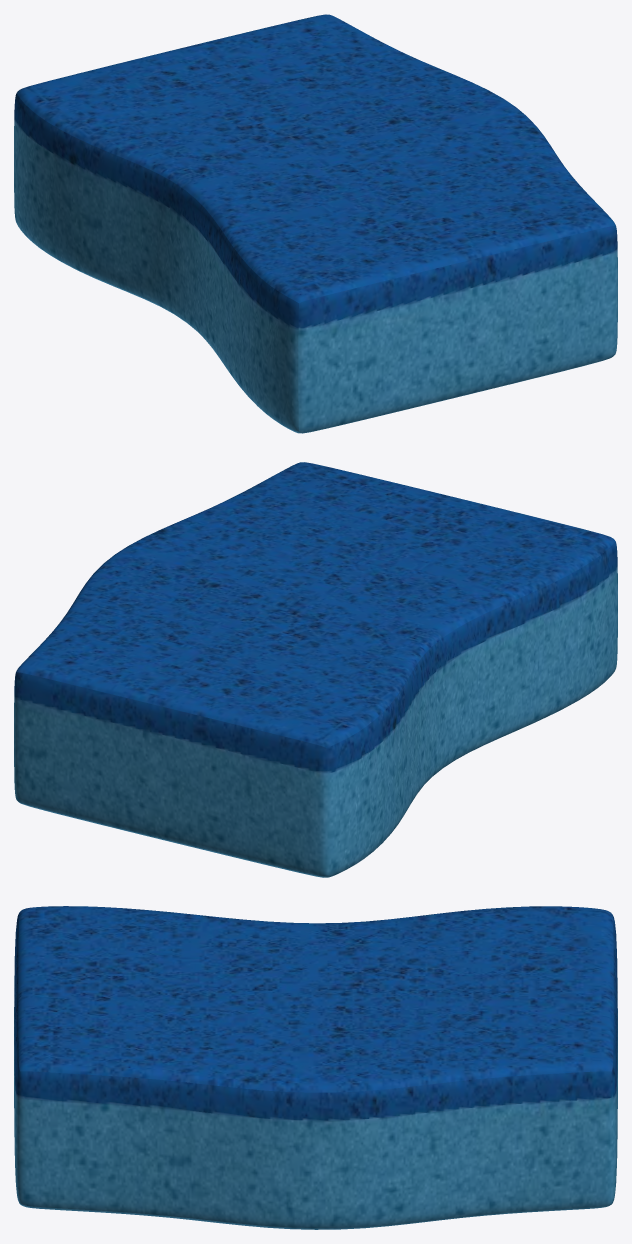
File: cleaning_sponge_f01.glb
The picture shows the model from 3 angles, top to bottom: view 1: azimuth 30°, elevation 25°; view 2: azimuth 150°, elevation 25°; view 3: azimuth 270°, elevation 25°; orthographic projection. The views are drawn at different scales.
Parts seen in each view (by area): view 1: part0; view 2: part0; view 3: part0.
Boxes of the visible parts, x1=… form: part0: x1=14, y1=14, x2=617, y2=433; part0: x1=14, y1=462, x2=617, y2=877; part0: x1=14, y1=906, x2=617, y2=1229.
Bounding box in the file's own units: 0.0736 × 0.027 × 0.1.
1 material, 1 textured.
